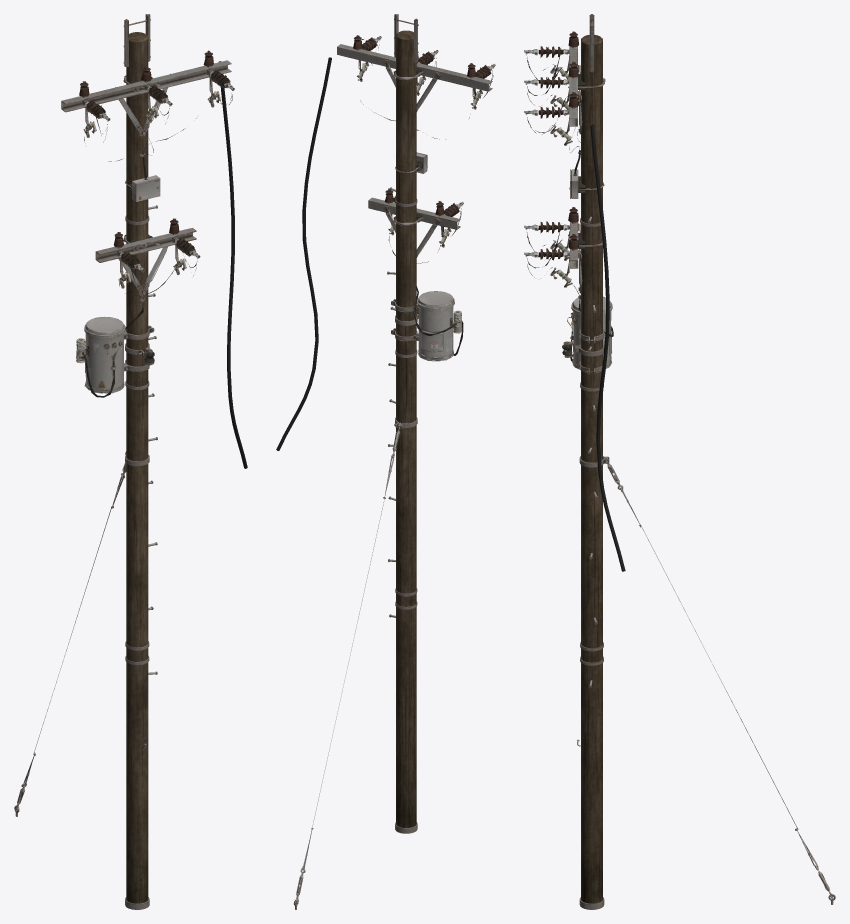
Rendered from utilpole.glb.
3 views of the same model, side by side, from view 1: azimuth 30°, elevation 25°; view 2: azimuth 150°, elevation 25°; view 3: azimuth 270°, elevation 25° (orthographic). The views are drawn at different scales.
Visible parts, largest first — view 1: preset_01_pole.001, preset_01_connection_large_02.001, preset_01_transformer_01.001, preset_01_connection_small_02.001, line_m, preset_01_transformer_02.001, preset_01_fuse_02.001, preset_01_fastener.001; view 2: preset_01_pole.001, preset_01_transformer_01.001, preset_01_connection_large_02.001, line_m, preset_01_connection_small_02.001, preset_01_fastener.001; view 3: preset_01_pole.001, preset_01_connection_large_02.001, line_m, preset_01_connection_small_02.001, preset_01_transformer_01.001, preset_01_fastener.001.
Boxes of the visible parts, x1,y1,x2,y2 form: preset_01_pole.001: (126,32,148,903); preset_01_connection_large_02.001: (61,50,234,142); preset_01_transformer_01.001: (76,297,154,397); preset_01_connection_small_02.001: (95,218,200,295); line_m: (219,61,247,468); preset_01_transformer_02.001: (125,152,160,201); preset_01_fuse_02.001: (83,77,232,161); preset_01_fastener.001: (14,462,126,809); preset_01_pole.001: (396,30,416,827); preset_01_transformer_01.001: (391,286,463,361); preset_01_connection_large_02.001: (337,35,495,111); line_m: (276,57,331,450); preset_01_connection_small_02.001: (368,188,463,257); preset_01_fastener.001: (295,422,401,903); preset_01_pole.001: (581,34,602,903); preset_01_connection_large_02.001: (524,31,605,134); line_m: (590,124,625,571); preset_01_connection_small_02.001: (524,207,602,293); preset_01_transformer_01.001: (567,295,613,374); preset_01_fastener.001: (603,457,833,898).
Size of the model in its own units: 1.51 by 6.13 by 1.96.
Materials: 3 (2 with a texture image).
